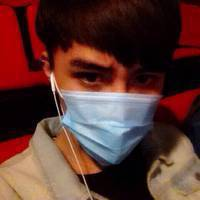face_mask: (55, 28, 165, 163)
